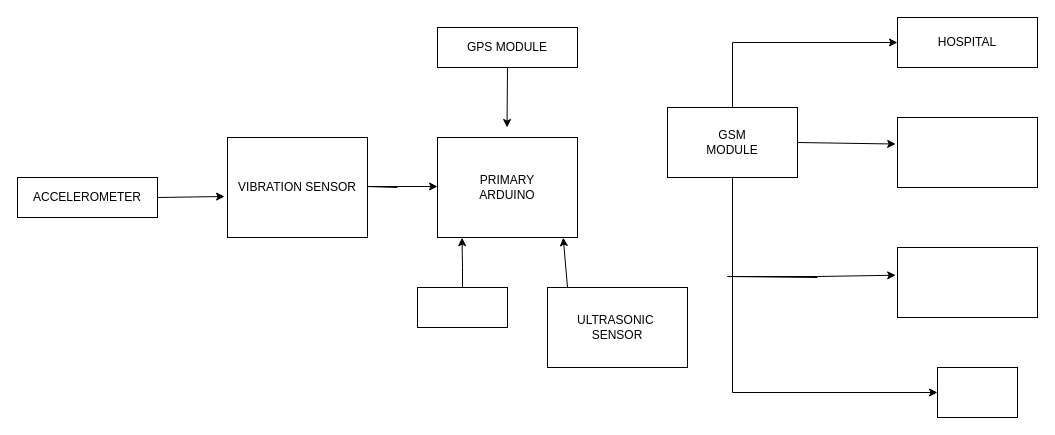
Some shapes in this 1055 by 435 pixel diagram are drawn without their labels. The box of each missing label's shape, as (x1, y1, x2, y2) in pixels:
LCD: (936, 366, 1018, 418)
LED: (416, 286, 508, 328)
POLICE STATION: (896, 116, 1038, 188)
PROGRAMMED USER: (896, 246, 1038, 318)
